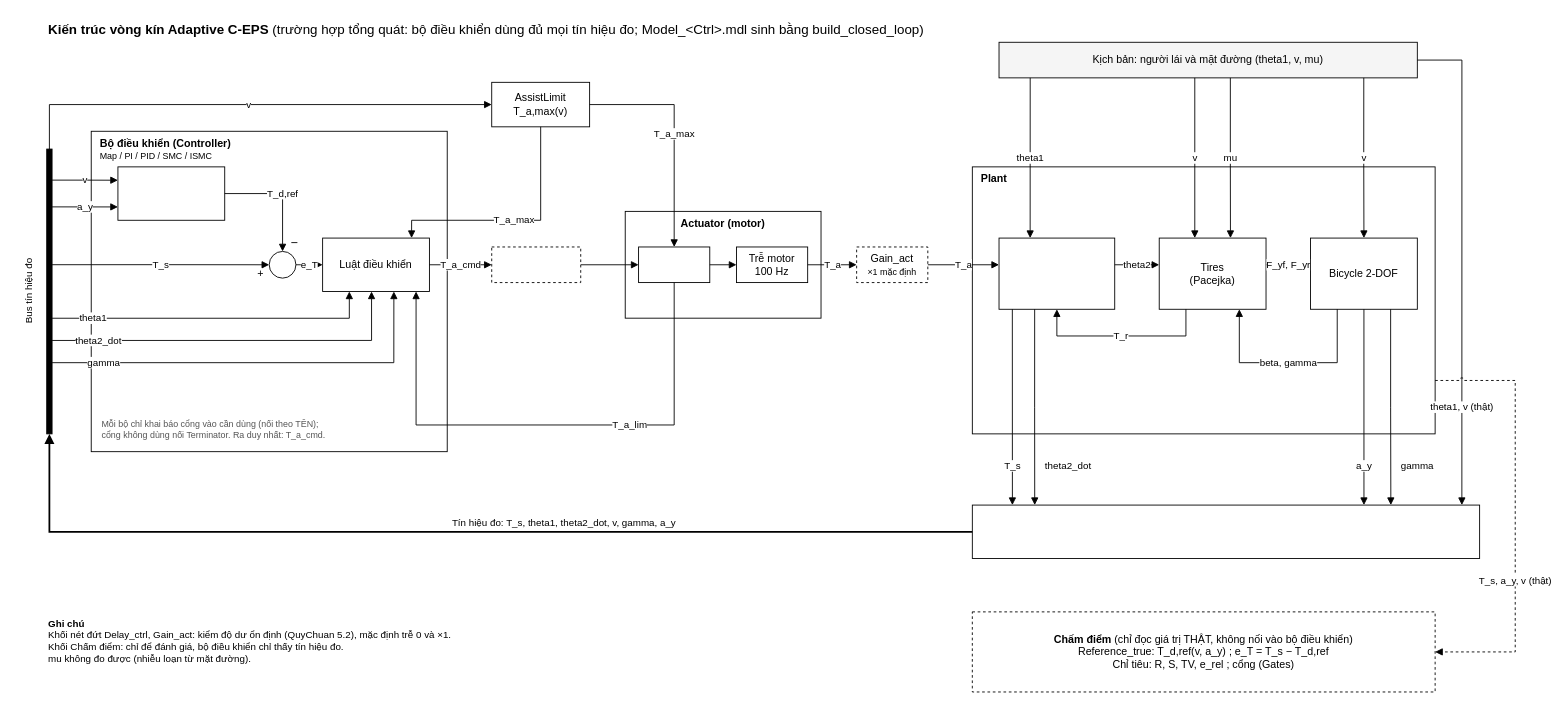
Image size: 1566x708. Some labels were removed from this diagram. Each missing label, with the centre of its shape:
"Chặn ±T_a,max" belongs at pixel 674 264.
"Delay_ctrl trễ, mặc định 0" belongs at pixel 536 264.
"Reference T_d,ref(v, a_y)" belongs at pixel 171 193.
"Sensors : nhiễu + lượng tử + chu kỳ cập nhật (không seed = lý tưởng)" belongs at pixel 1225 531.
"Steering Column" belongs at pixel 1056 273.
